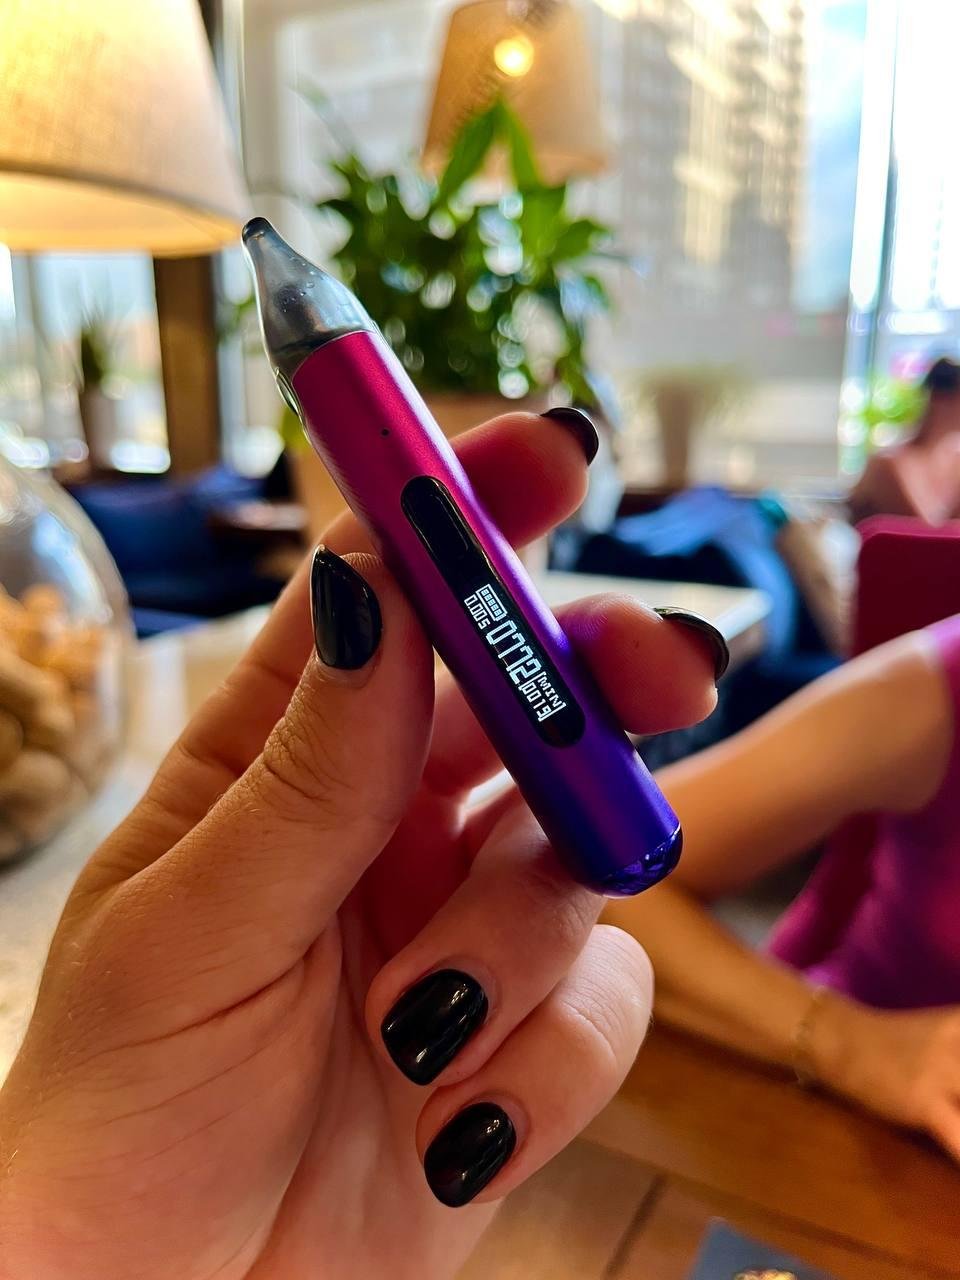Vape: (243, 218, 680, 896)
